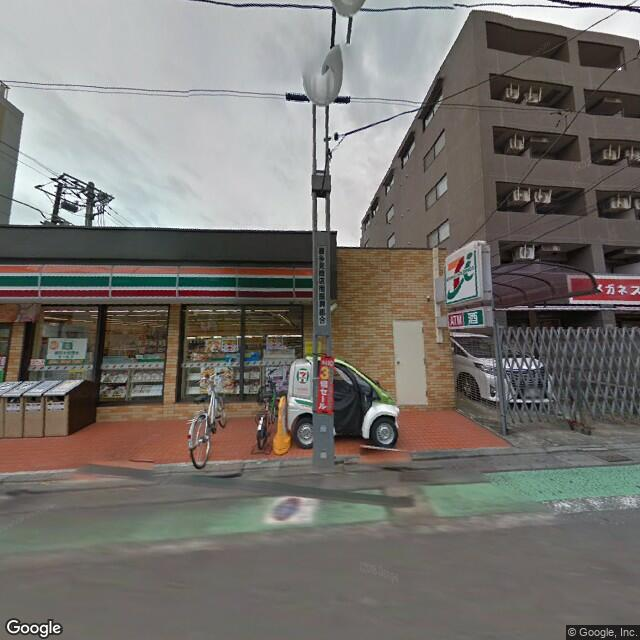7-eleven: (1, 259, 321, 309), (442, 245, 484, 304)
